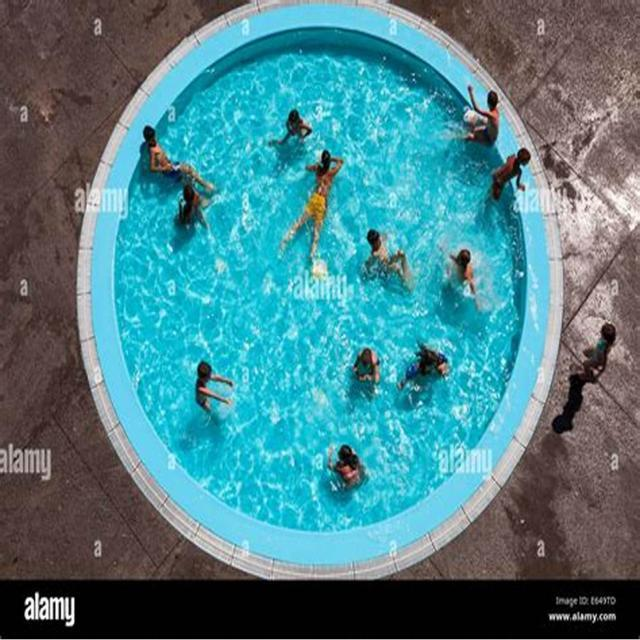Swimming: (296, 154, 346, 258), (359, 222, 415, 289), (439, 234, 486, 312), (191, 362, 237, 422), (268, 106, 326, 148), (403, 346, 448, 389), (325, 444, 367, 489), (172, 186, 218, 227), (346, 344, 384, 388)
